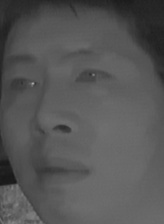eye: (72, 65, 111, 90), (5, 70, 39, 94)
mouth: (29, 152, 90, 192)
